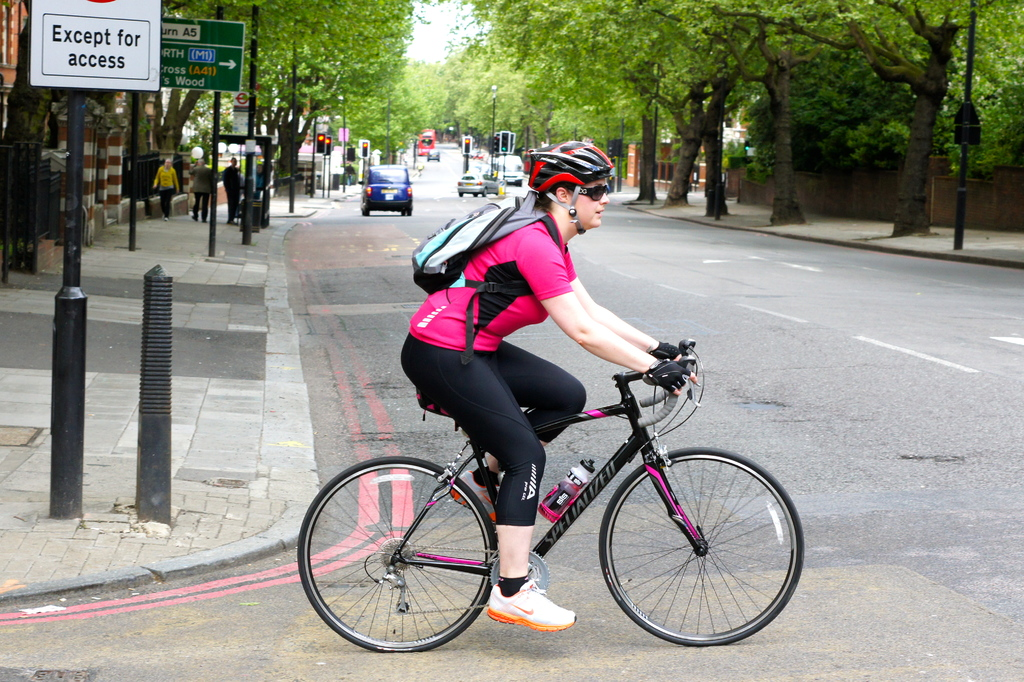Bike: (259, 353, 842, 682)
